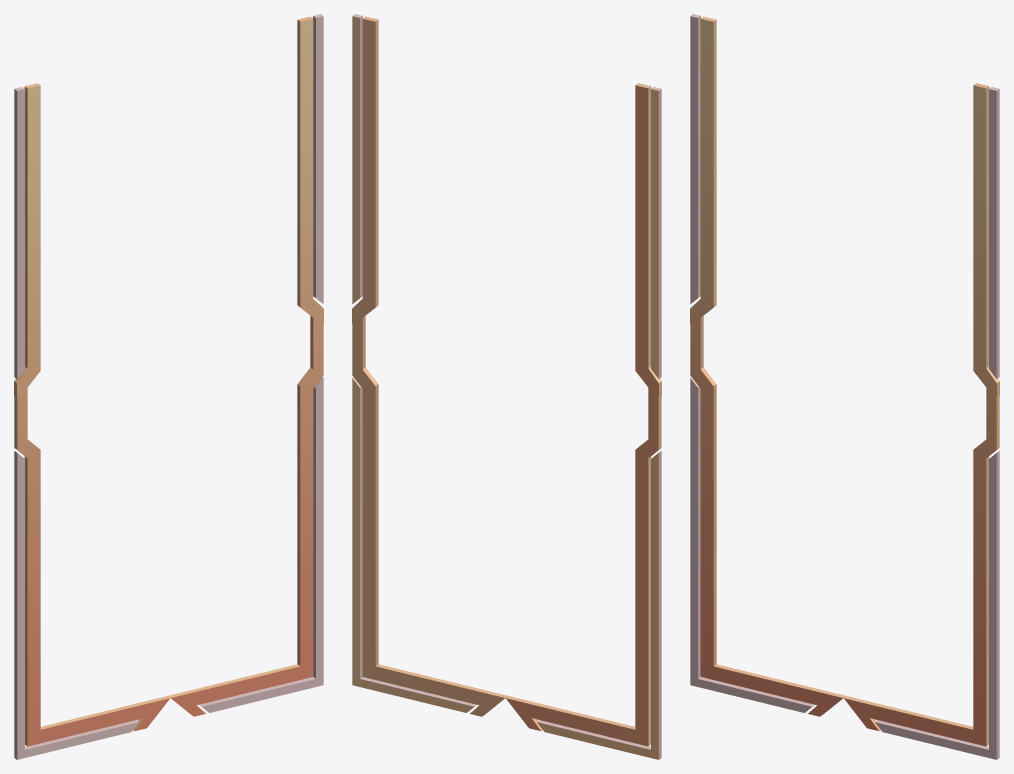
File: ramka 1.FBX
The picture shows the model from 3 angles, left to right: view 1: azimuth 30°, elevation 25°; view 2: azimuth 150°, elevation 25°; view 3: azimuth 330°, elevation 25°; orthographic projection.
Visible parts, largest first — view 1: ramka; view 2: ramka; view 3: ramka.
Boxes of the visible parts, x1=… form: ramka: x1=14, y1=14, x2=323, y2=759; ramka: x1=352, y1=14, x2=661, y2=759; ramka: x1=690, y1=14, x2=999, y2=759.
Size of the model in its own units: 1181 by 2460 by 20.1.
